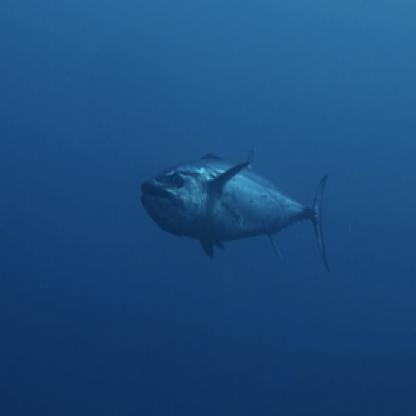tuna: (135, 143, 339, 281)
